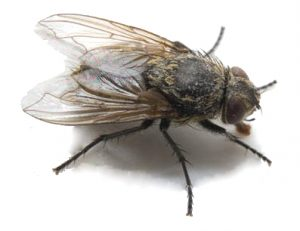house fly: (18, 7, 283, 216)
